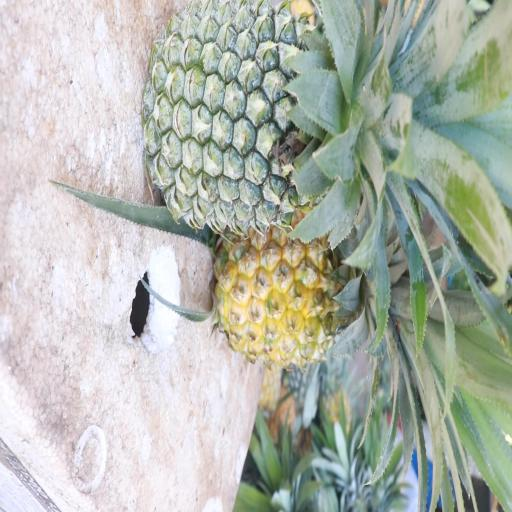Pineapple - v8 v1: (213, 228, 483, 430)
